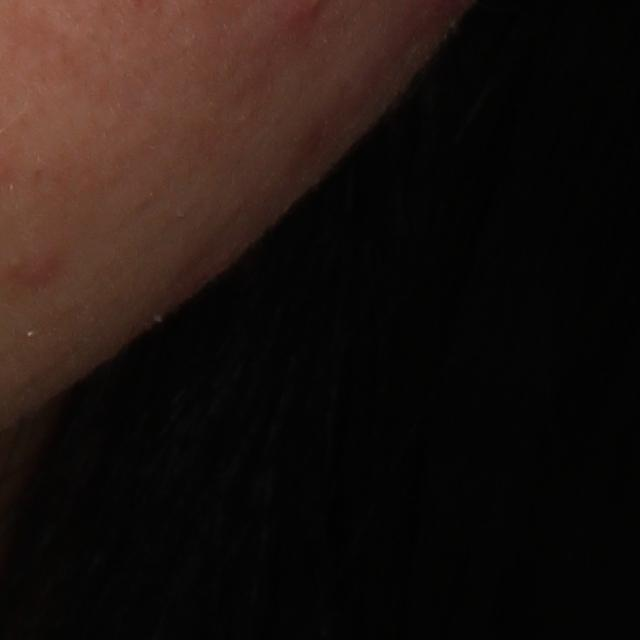papule: (8, 248, 61, 279)
